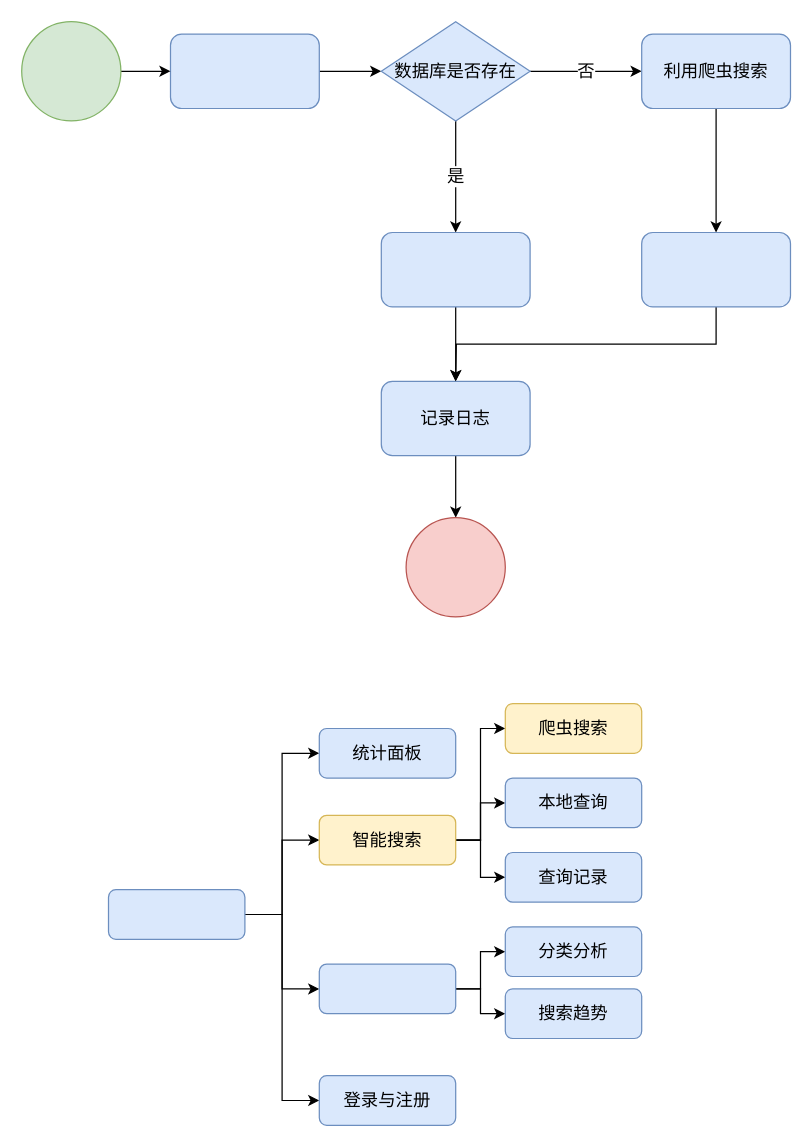
Some shapes in this 812 by 1147 pixel diagram are drawn without their labels. Each missing label, with the centre of its shape:
"可视化" belongs at [387,988].
"垃圾分类大数据" belongs at [176,913].
"存储到本地" belongs at [715,269].
"搜索" belongs at [244,70].
"本地搜索" belongs at [455,269].
